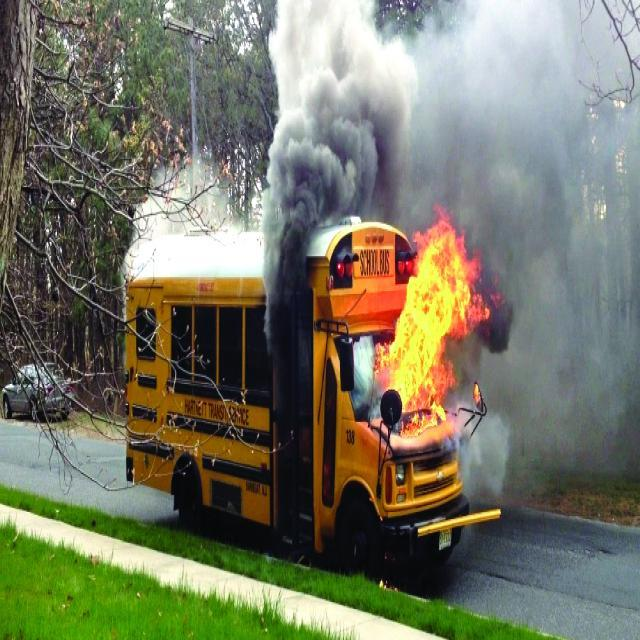Fire: (379, 216, 490, 434)
Smoke: (260, 0, 640, 508)
